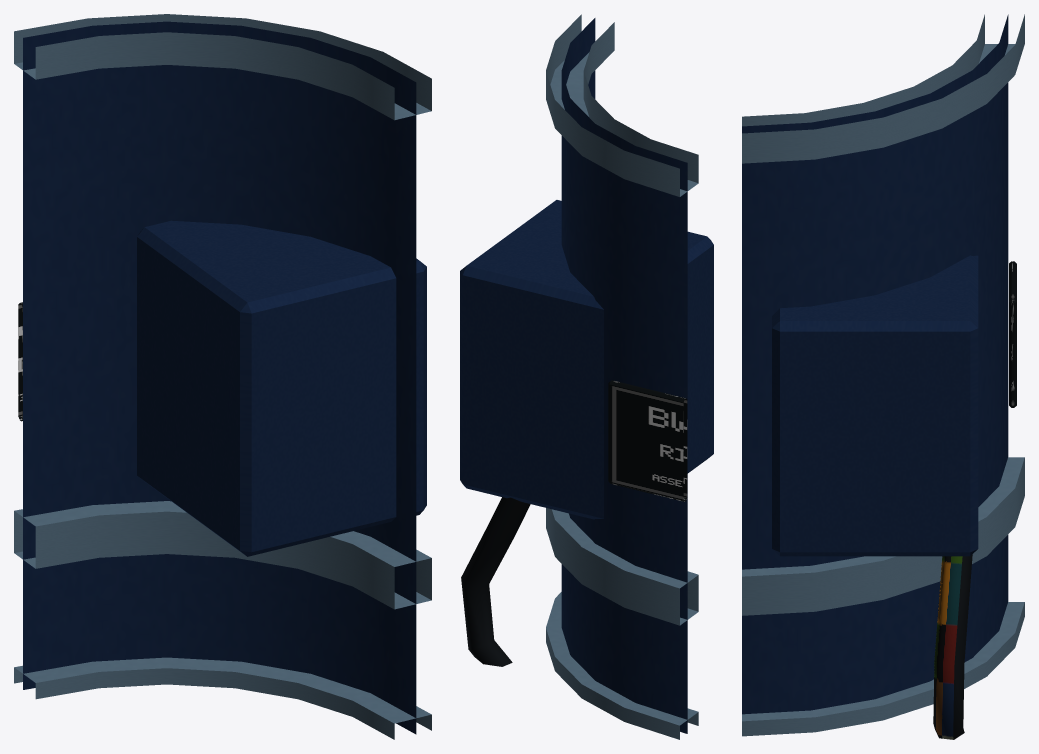
The model's file is cell_5.obj.
3 views of the same model, side by side, from view 1: azimuth 30°, elevation 25°; view 2: azimuth 150°, elevation 25°; view 3: azimuth 270°, elevation 25° (orthographic). The views are drawn at different scales.
Visible parts, largest first — view 1: cell_5; view 2: cell_5; view 3: cell_5.
Part boxes in pixels (x1=…): cell_5: x1=14, y1=14, x2=431, y2=739; cell_5: x1=460, y1=14, x2=713, y2=739; cell_5: x1=742, y1=14, x2=1024, y2=739.
Size of the model in its own units: 0.4619 by 1 by 0.425.
